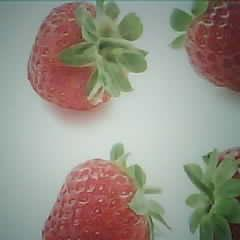straw-ripe: (26, 2, 146, 110), (43, 149, 158, 240)
